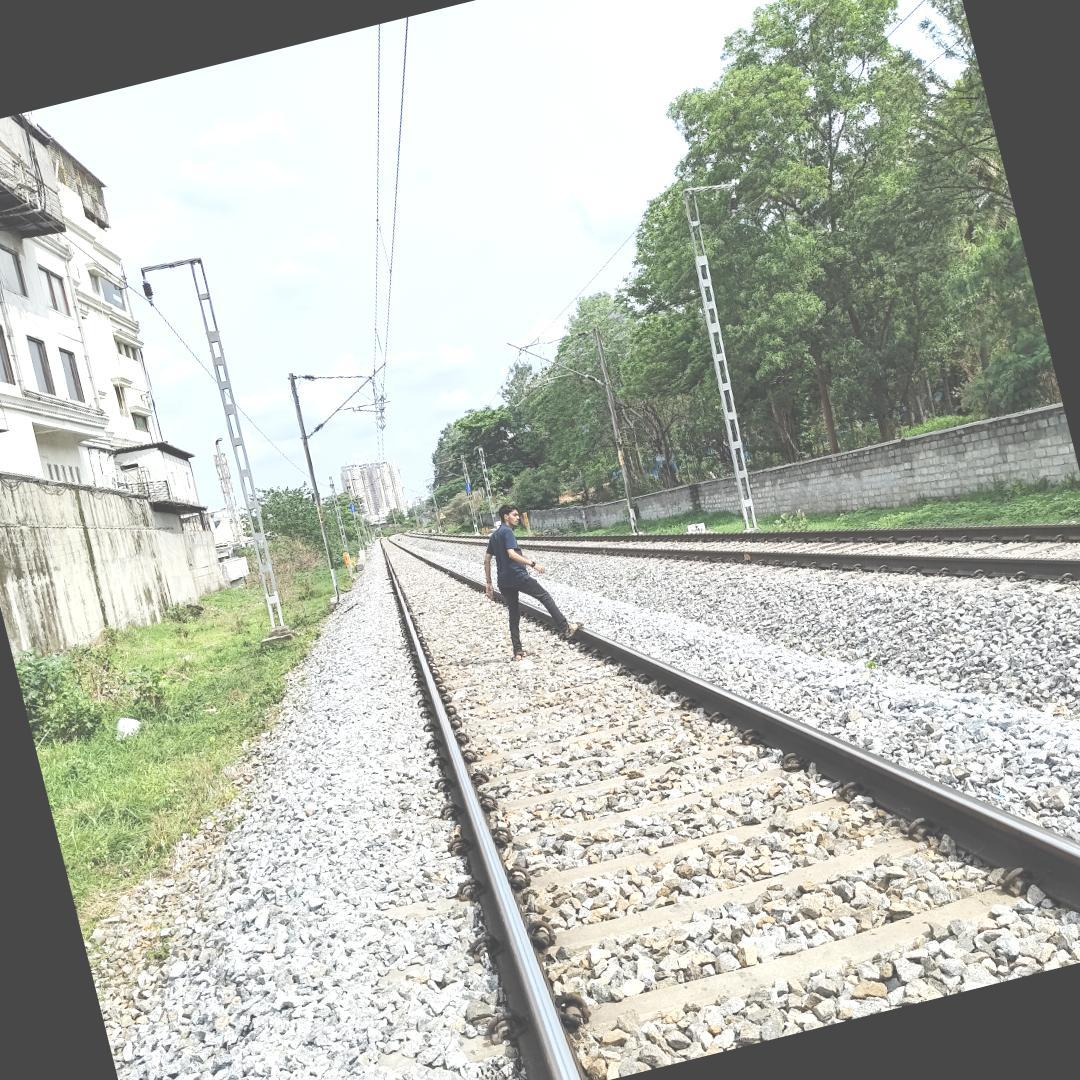standing: (480, 498, 586, 666)
track: (366, 536, 1080, 1080)
